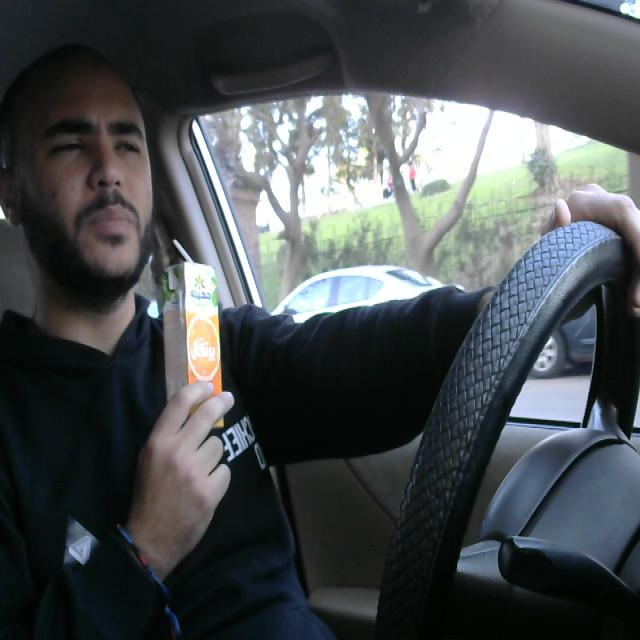drinking: (160, 231, 232, 433)
